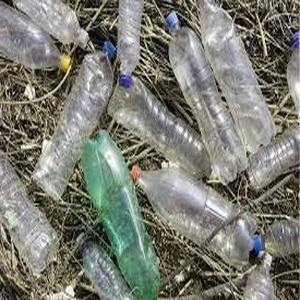Plastic: (35, 34, 114, 193), (130, 165, 247, 264), (108, 74, 199, 172), (0, 0, 70, 72), (246, 132, 300, 199), (15, 0, 88, 48), (81, 236, 135, 300), (116, 1, 145, 72)
